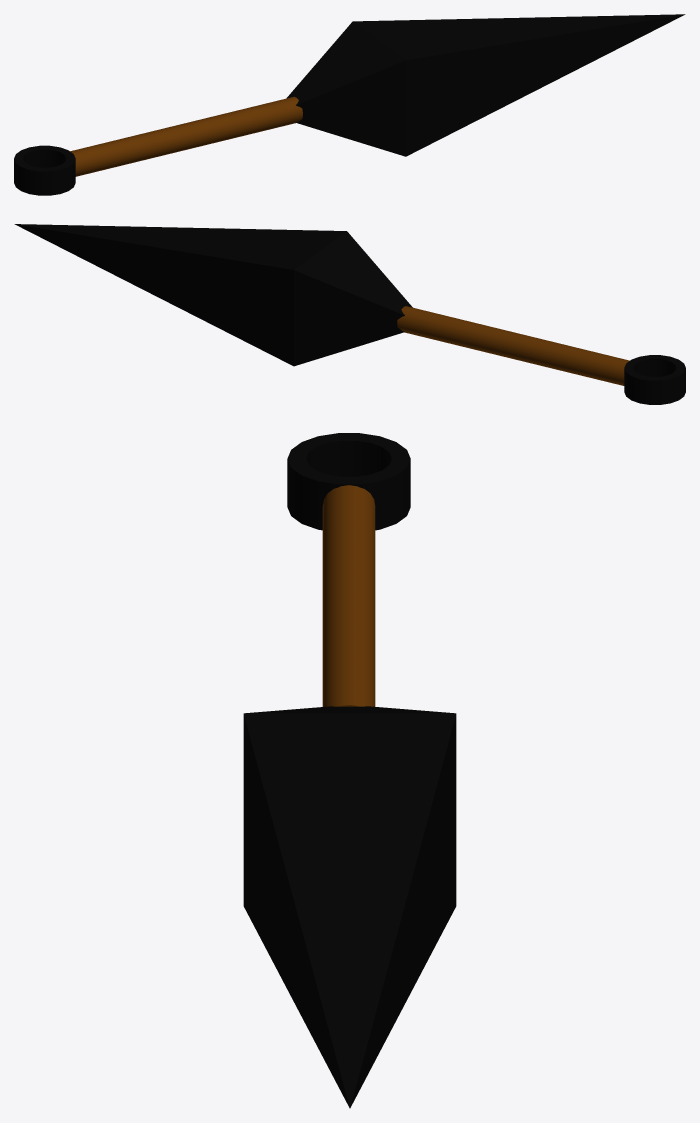
File: ColorKunai.FBX
3 renders of one model, top to bottom at view 1: azimuth 30°, elevation 25°; view 2: azimuth 150°, elevation 25°; view 3: azimuth 270°, elevation 25°, orthographic. The views are drawn at different scales.
Visible parts, largest first — view 1: Hedra001, Cylinder001, Tube001; view 2: Hedra001, Cylinder001, Tube001; view 3: Hedra001, Cylinder001, Tube001.
Boxes of the visible parts, bbox=[...] form: Hedra001: bbox=[286, 14, 685, 156]; Cylinder001: bbox=[70, 96, 302, 176]; Tube001: bbox=[14, 145, 75, 195]; Hedra001: bbox=[14, 224, 412, 366]; Cylinder001: bbox=[397, 306, 629, 385]; Tube001: bbox=[624, 355, 685, 404]; Hedra001: bbox=[243, 706, 456, 1108]; Cylinder001: bbox=[322, 485, 375, 706]; Tube001: bbox=[287, 433, 410, 530].
Size of the model in its own units: 23.01 by 3.18 by 3.18.
